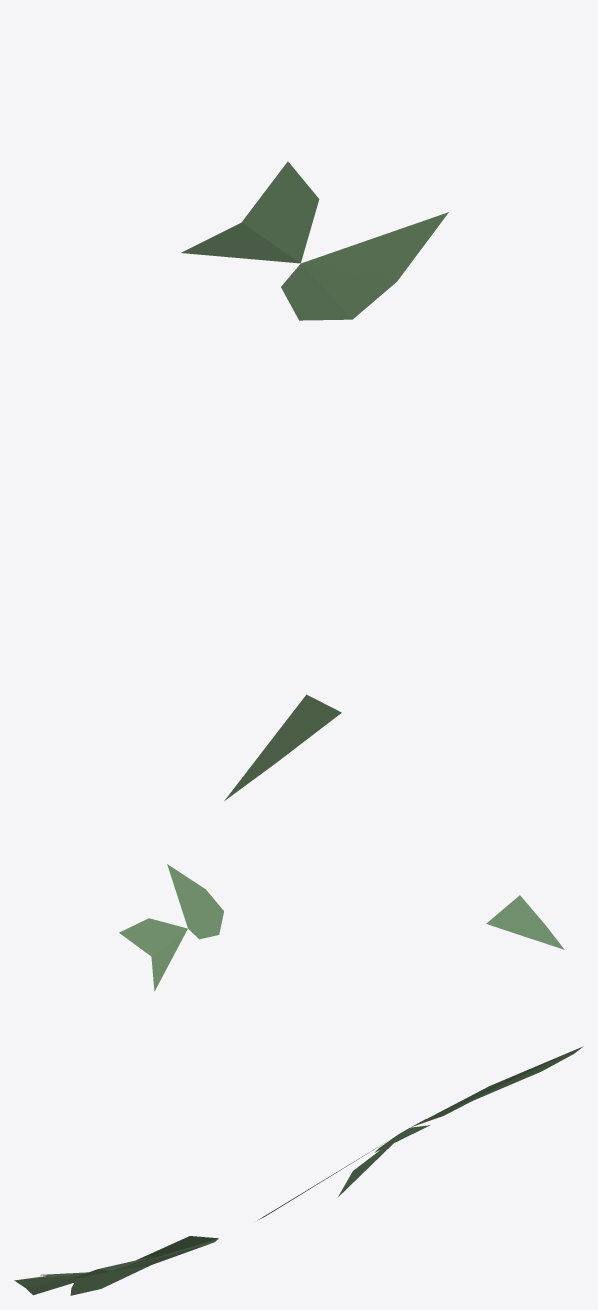
File: c_1663_17818_forest.glb
The picture shows the model from 3 angles, top to bottom: view 1: azimuth 30°, elevation 25°; view 2: azimuth 150°, elevation 25°; view 3: azimuth 330°, elevation 25°; orthographic projection. The views are drawn at different scales.
Visible parts, largest first — view 1: geometry_0; view 2: geometry_0; view 3: geometry_0.
Boxes of the visible parts, x1=… form: geometry_0: x1=181, y1=161, x2=448, y2=800; geometry_0: x1=119, y1=864, x2=564, y2=991; geometry_0: x1=14, y1=1046, x2=583, y2=1295.
Bounding box in the file's own units: 159 × 85.14 × 299.
